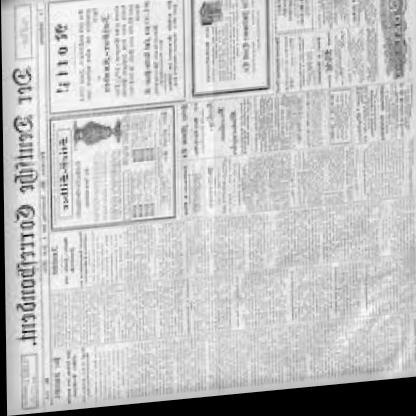trash: (2, 0, 415, 413)
